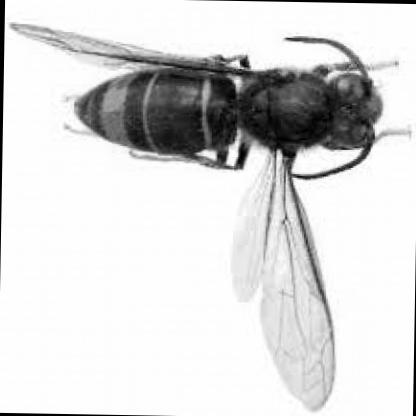asian: (9, 14, 398, 413)
